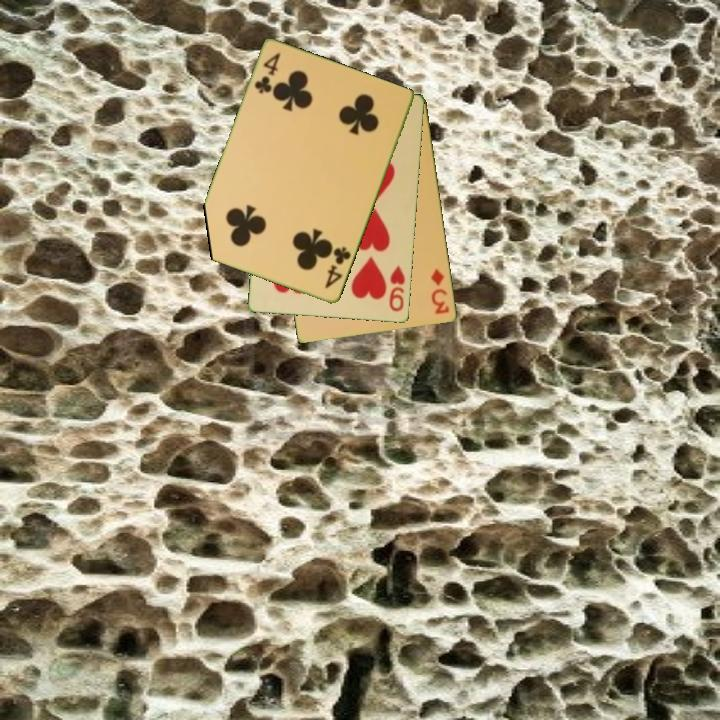3d: (428, 265, 452, 317)
4c: (321, 243, 354, 292), (251, 49, 284, 97)
9h: (386, 262, 408, 315)
